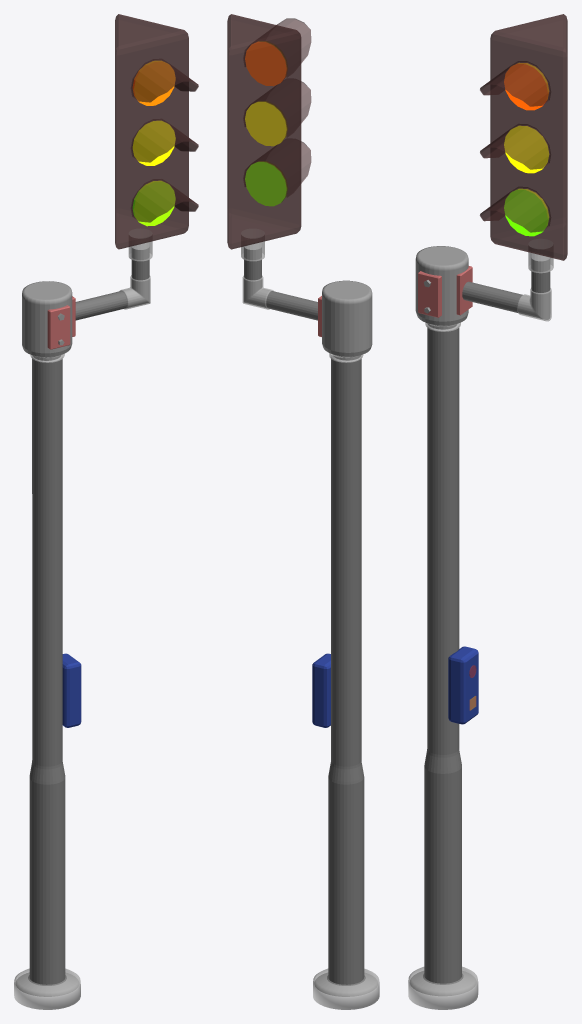
File: tltl.glb
3 views of the same model, side by side, from view 1: azimuth 30°, elevation 25°; view 2: azimuth 150°, elevation 25°; view 3: azimuth 330°, elevation 25° (orthographic). The views are drawn at different scales.
Visible parts, largest first — view 1: stång, ljuslåda, Cylinder005_1, kopplingslåda, stång-mindre, fundament, ljus-grön, ljus-röd, ljus-gul, knapp, detalj1, Cylinder005 (+2 smaller); view 2: stång, ljuslåda, kopplingslåda, stång-mindre, fundament, ljus-gul, ljus-röd, ljus-grön, knapp, Cylinder005_1, adapter-krok, adapter; view 3: stång, ljuslåda, Cylinder005_1, kopplingslåda, stång-mindre, knapp, fundament, ljus-grön, ljus-gul, ljus-röd, detalj1, adapter-krok (+2 smaller).
Part boxes in pixels (x1,y1,x2,y2): stång: (15,357,79,996); ljuslåda: (115,14,188,249); Cylinder005_1: (131,59,198,222); kopplingslåda: (22,281,72,360); stång-mindre: (75,247,149,320); fundament: (14,968,80,1009); ljus-grön: (133,181,175,226); ljus-röd: (132,61,175,105); ljus-gul: (133,121,175,165); knapp: (62,653,81,727); detalj1: (47,296,75,349); Cylinder005: (131,59,198,222); stång: (314,358,377,996); ljuslåda: (227,14,301,249); kopplingslåda: (322,280,372,360); stång-mindre: (244,247,317,320); fundament: (313,968,379,1009); ljus-gul: (245,101,286,145); ljus-röd: (245,41,286,85); ljus-grön: (245,161,286,205); knapp: (312,653,330,727); Cylinder005_1: (277,19,310,181); adapter-krok: (242,275,273,309); adapter: (241,229,264,261); stång: (410,327,476,996); ljuslåda: (490,14,567,260); Cylinder005_1: (480,62,550,232); kopplingslåda: (415,246,468,329); stång-mindre: (462,258,550,319); knapp: (448,646,478,724); fundament: (408,966,478,1009); ljus-grön: (504,189,548,236); ljus-gul: (504,126,548,173); ljus-röd: (504,63,548,110); detalj1: (418,266,472,317); adapter-krok: (517,288,551,321).
Size of the model in its own units: 3.77 by 21.47 by 2.75.
